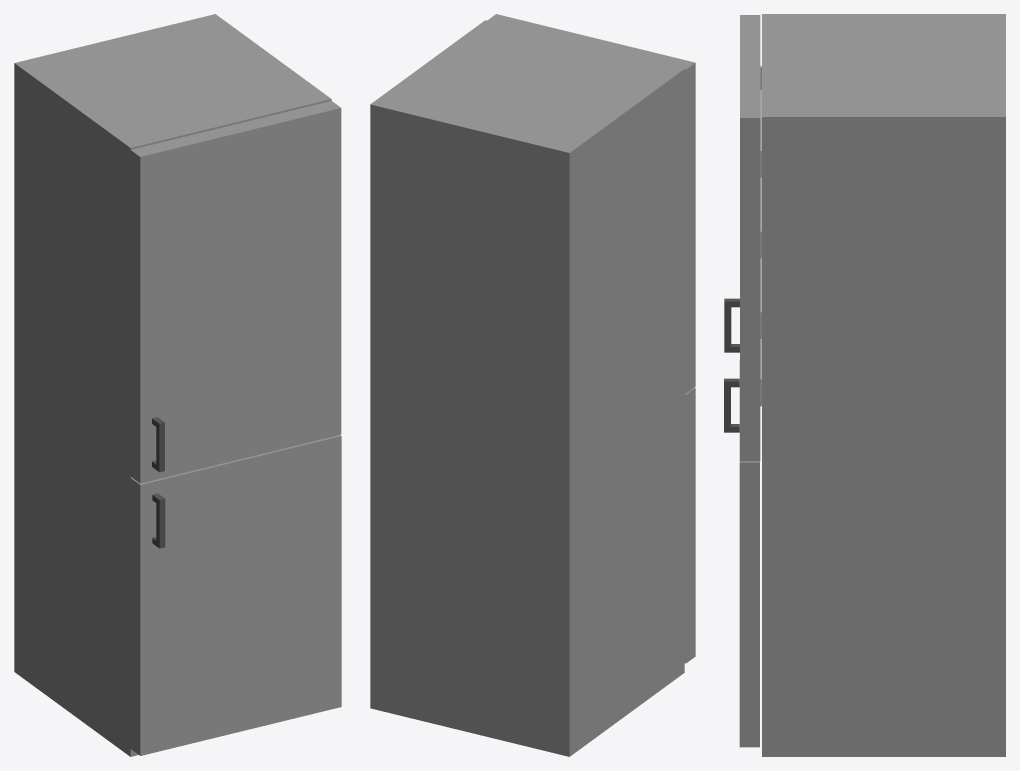
Rendered from Refrigerator_01.fbx.
3 views of the same model, side by side, from view 1: azimuth 30°, elevation 25°; view 2: azimuth 150°, elevation 25°; view 3: azimuth 270°, elevation 25° (orthographic). The views are drawn at different scales.
Parts seen in each view (by area): view 1: Refrigerator_01, Refrigerator_01_2, Refrigerator_01_3; view 2: Refrigerator_01, Refrigerator_01_2, Refrigerator_01_3; view 3: Refrigerator_01, Refrigerator_01_2, Refrigerator_01_3.
Part boxes in pixels (left/top/right/bottom): Refrigerator_01: left=14, top=14, right=331, bottom=756; Refrigerator_01_2: left=130, top=101, right=341, bottom=483; Refrigerator_01_3: left=130, top=435, right=341, bottom=755; Refrigerator_01: left=370, top=20, right=684, bottom=756; Refrigerator_01_2: left=487, top=14, right=695, bottom=393; Refrigerator_01_3: left=684, top=387, right=695, bottom=663; Refrigerator_01: left=762, top=14, right=1005, bottom=756; Refrigerator_01_2: left=724, top=15, right=761, bottom=461; Refrigerator_01_3: left=724, top=360, right=759, bottom=747.
Size of the model in its own units: 62.98 by 182 by 72.53.
